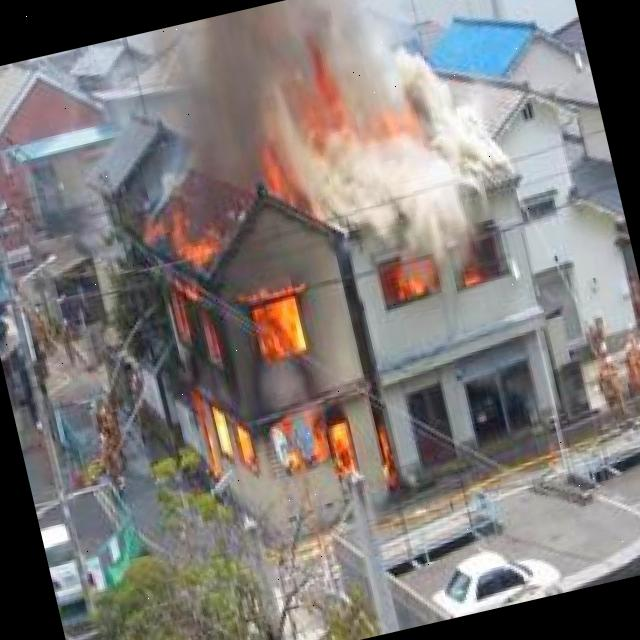fire: (136, 177, 364, 510), (303, 60, 415, 154), (386, 259, 437, 307)
